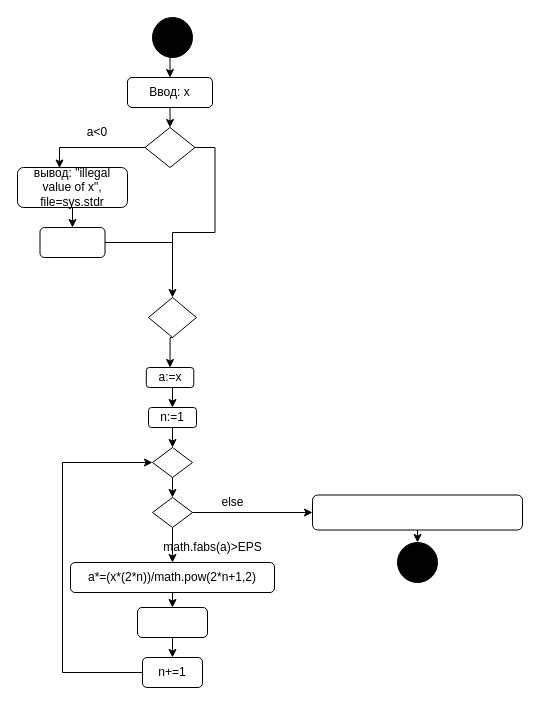
The diagram is 540 pixels wide and 705 high, and some of its shapes have lost their labels. Each missing label, with the centre of its shape:
exit(1): pixel 72 242
s+=a: pixel 172 622
вывод: f("Fi({x})={EULER+math.log(math.fabs(x))+s"}: pixel 417 512
